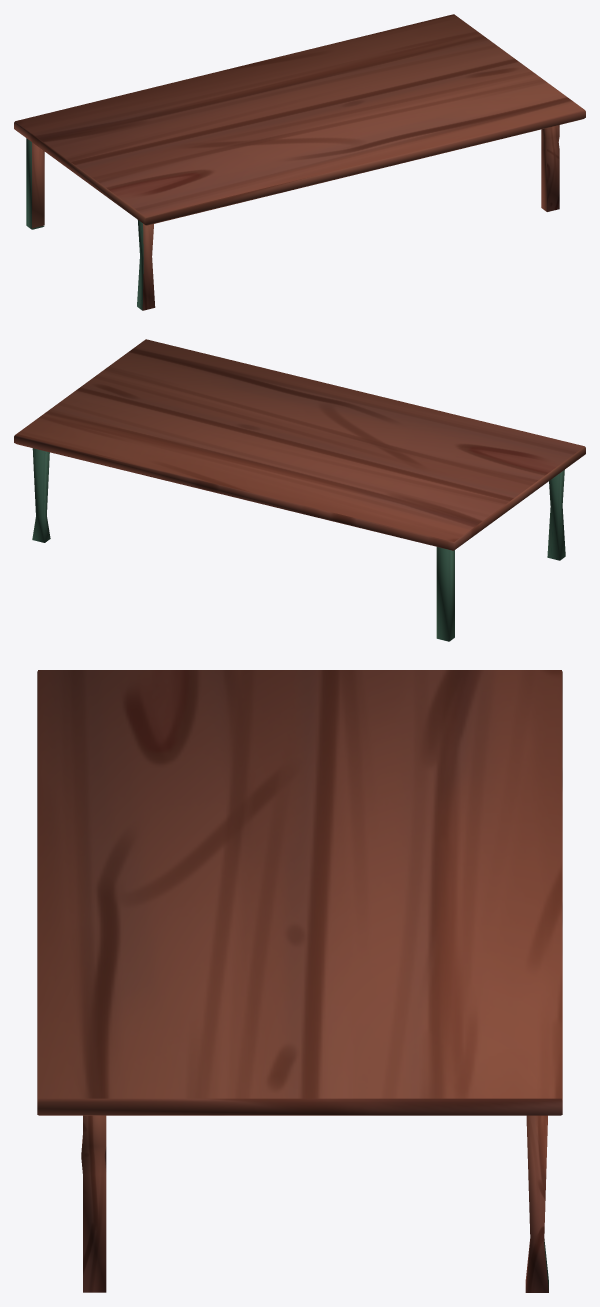
The model's file is Mesa.fbx.
3 views of the same model, one above another, from view 1: azimuth 30°, elevation 25°; view 2: azimuth 150°, elevation 25°; view 3: azimuth 270°, elevation 25° (orthographic). The views are drawn at different scales.
Visible parts, largest first — view 1: Mesa; view 2: Mesa; view 3: Mesa.
Boxes of the visible parts, <box> form: Mesa: <box>14,14,585,310</box>; Mesa: <box>14,339,585,641</box>; Mesa: <box>37,670,562,1292</box>.
Size of the model in its own units: 384 by 198 by 86.58.
